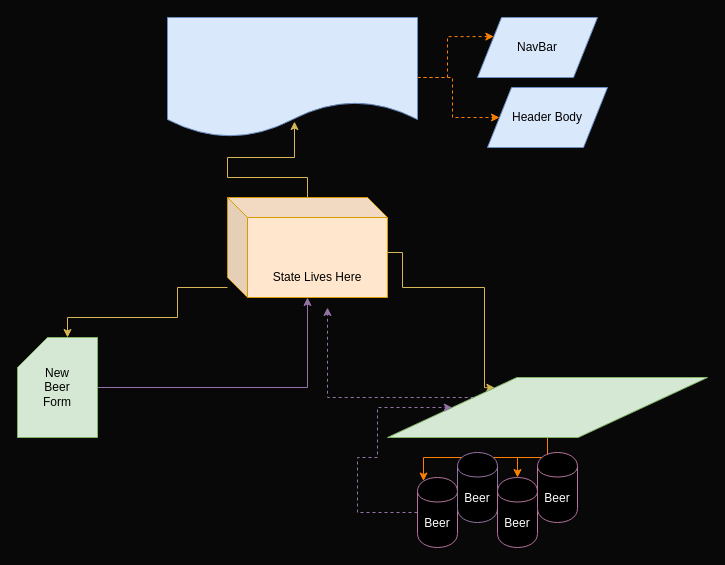
Image size: 725x565. Some labels were removed from this diagram. The box of each missing label's shape, as (x1, y1, x2, y2) in pixels:
App: (226, 196, 388, 298)
Beer List: (386, 376, 708, 438)
Header: (166, 16, 418, 138)
